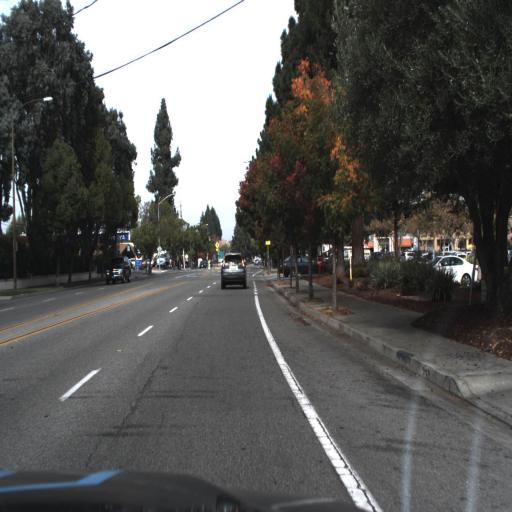car: (218, 250, 248, 294), (276, 252, 319, 282), (100, 257, 130, 292), (197, 255, 211, 277)
